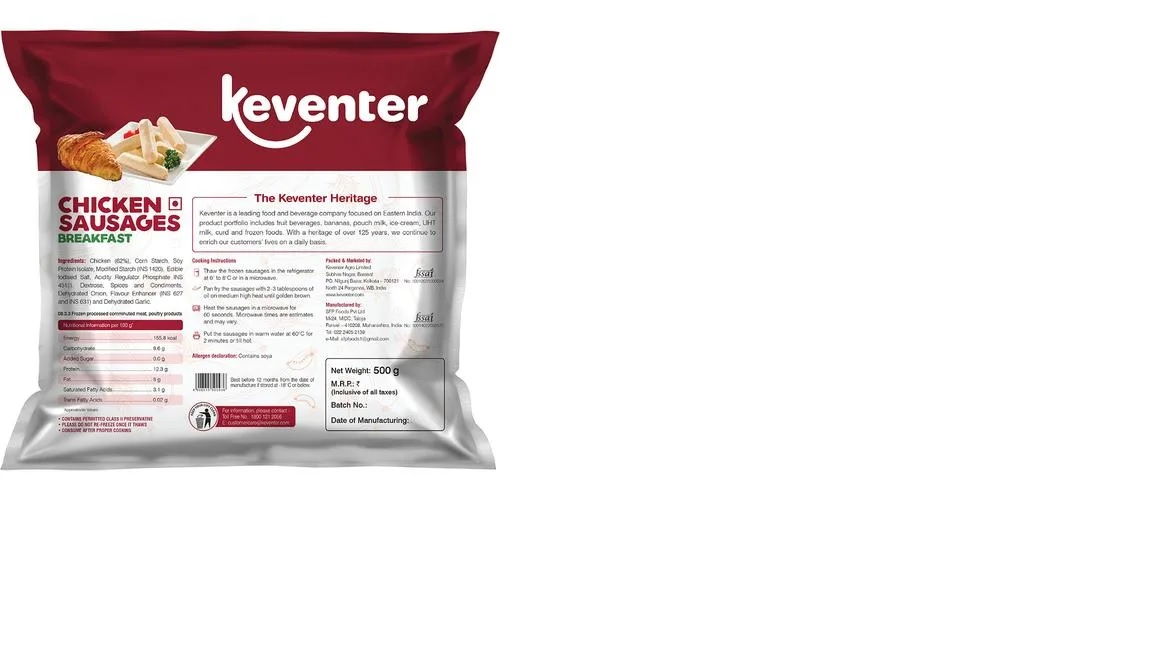non_veg: (164, 194, 180, 214)
